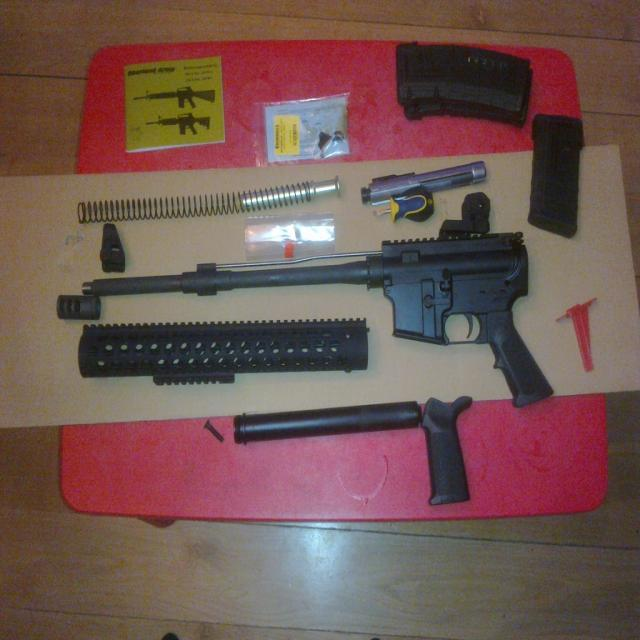weapon: (84, 191, 558, 408)
